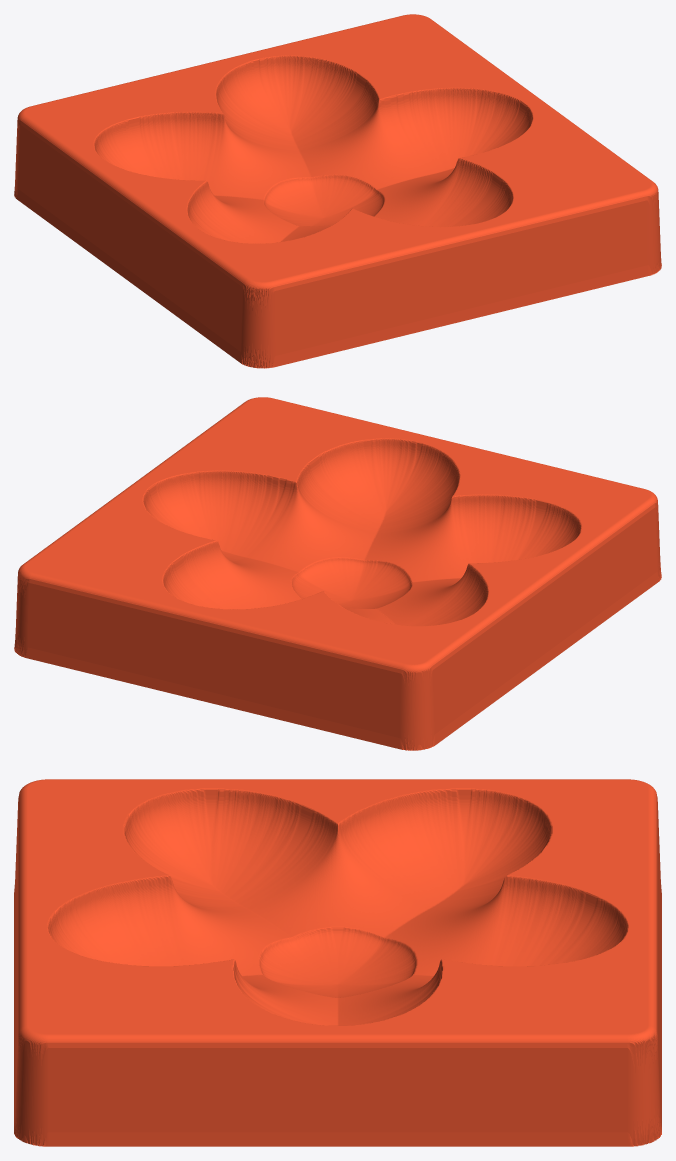
Rendered from mold.glb.
3 renders of one model, top to bottom at view 1: azimuth 30°, elevation 25°; view 2: azimuth 150°, elevation 25°; view 3: azimuth 270°, elevation 25°, orthographic. The views are drawn at different scales.
Parts seen in each view (by area): view 1: geometry_0; view 2: geometry_0; view 3: geometry_0.
Boxes of the visible parts, x1=… form: geometry_0: x1=14, y1=14, x2=661, y2=368; geometry_0: x1=14, y1=397, x2=661, y2=750; geometry_0: x1=14, y1=779, x2=661, y2=1146.
Bounding box in the file's own units: 0.1658 × 0.031 × 0.1709.
